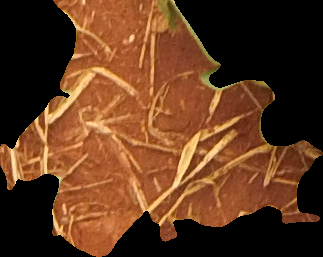soil: (3, 1, 321, 255)
